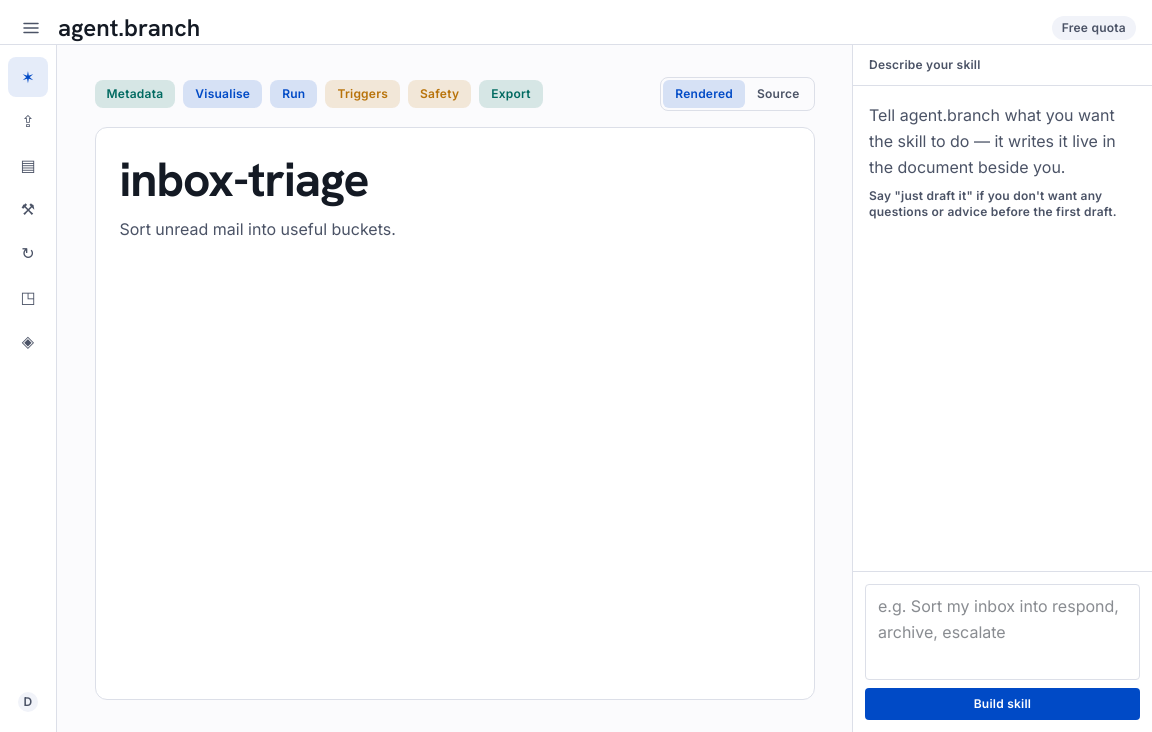
Scenario: AppShell capability chips › opens the Equipment decision guide by keyboard, returns, and submits a grounded question
Click the button named "Equipment" at coordinates (28, 209), box [8,189,48,229]
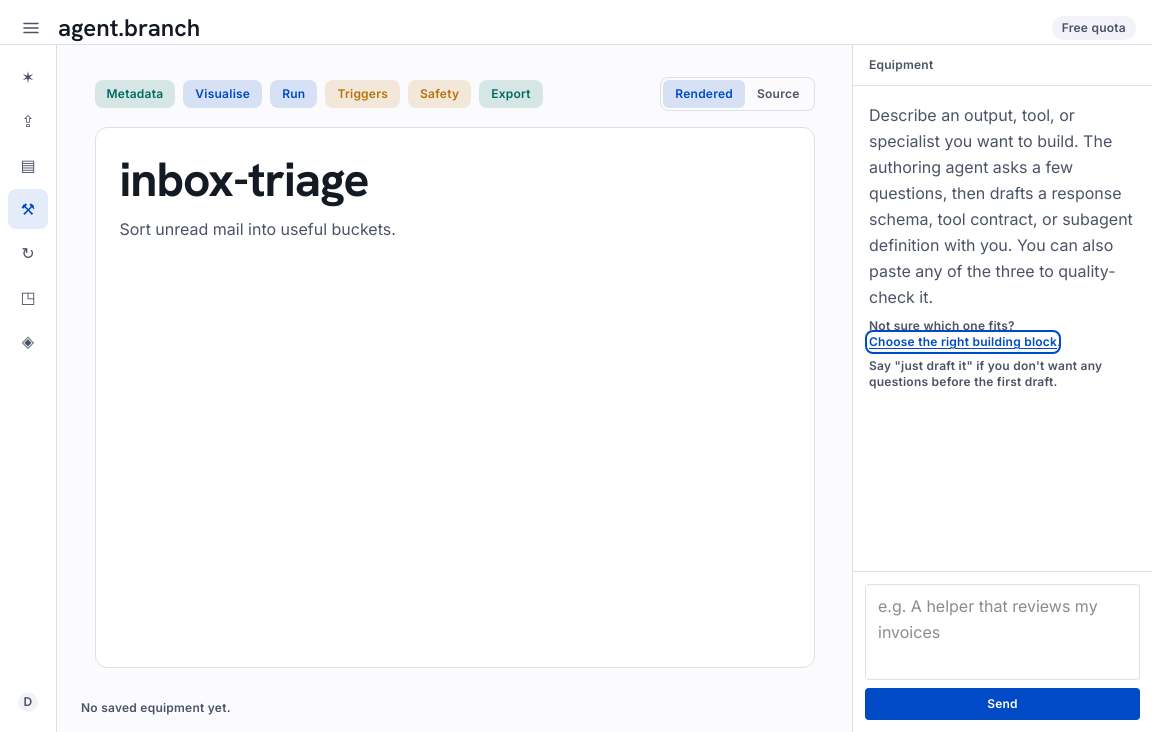
Press Enter
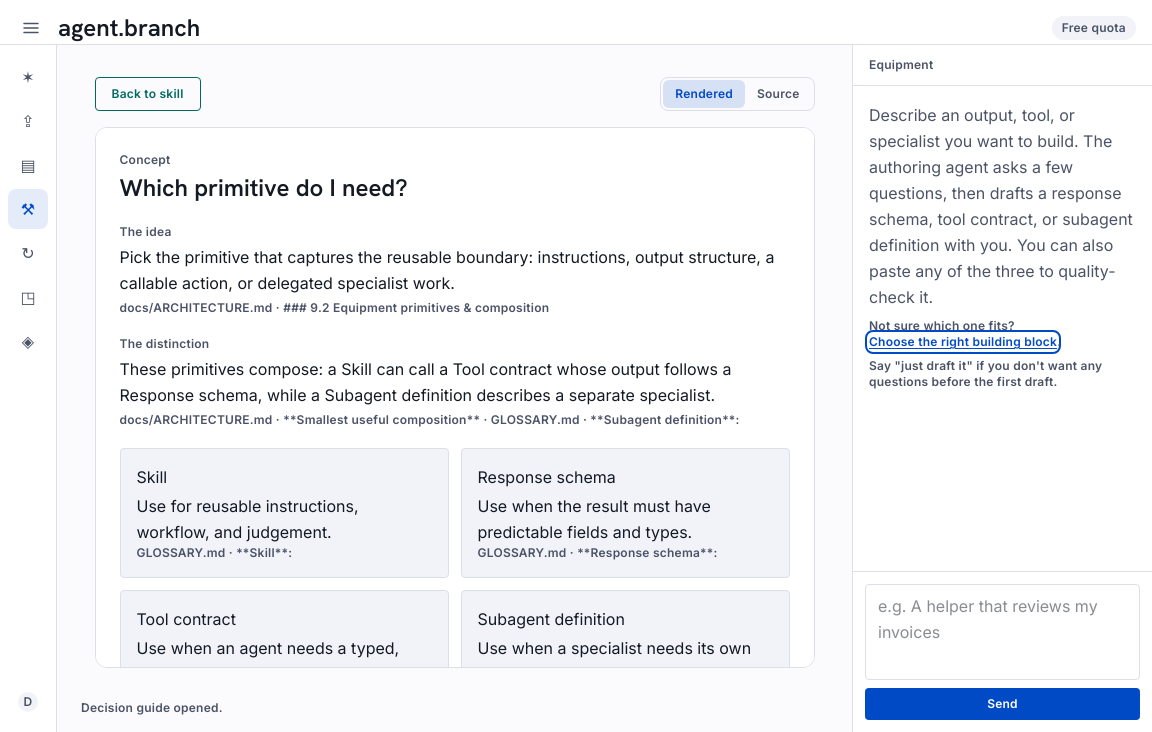
expect the heading "Which primitive do I need?" is shown: met, box [120,172,408,203]
expect the element "Which primitive do I need?" is shown: met, box [120,152,790,668]
expect the button "Back to skill" is enabled: met
Click the button "Back to skill" at coordinates (148, 94), box [94,77,201,111]
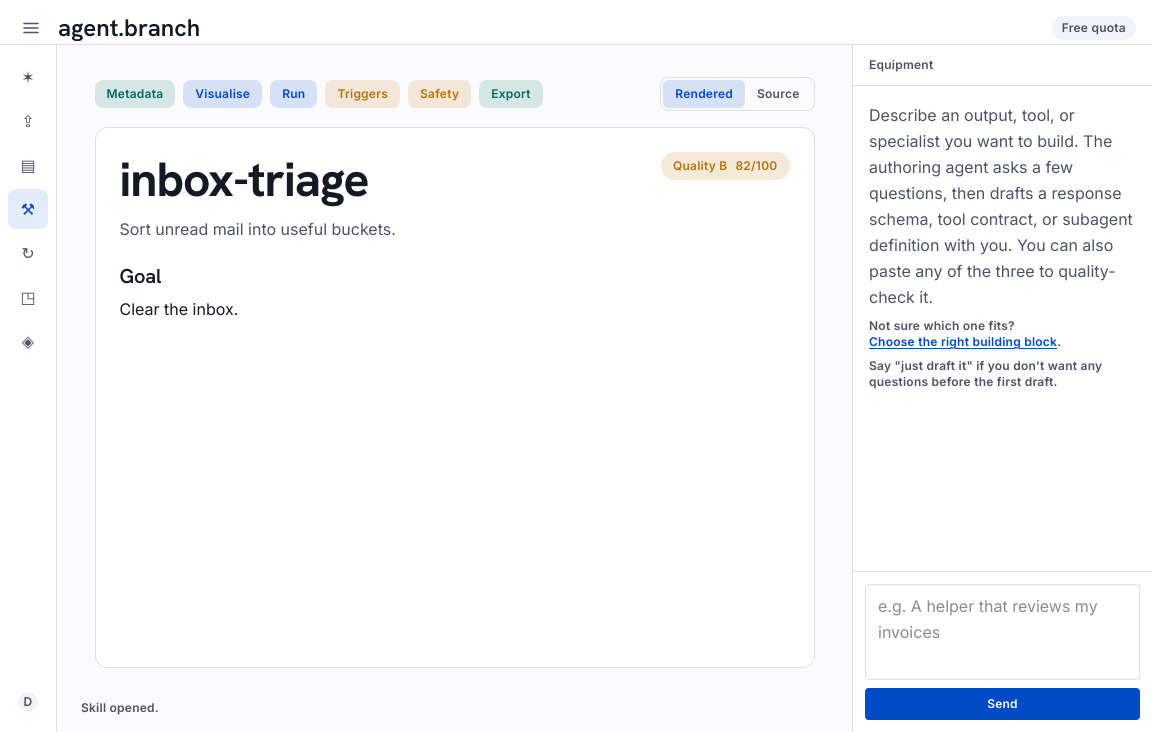
expect the heading "inbox-triage" is shown: met, box [120,152,369,208]
Click the button "Choose the right building block" at coordinates (963, 342), box [869,334,1057,350]
(page scrolled)
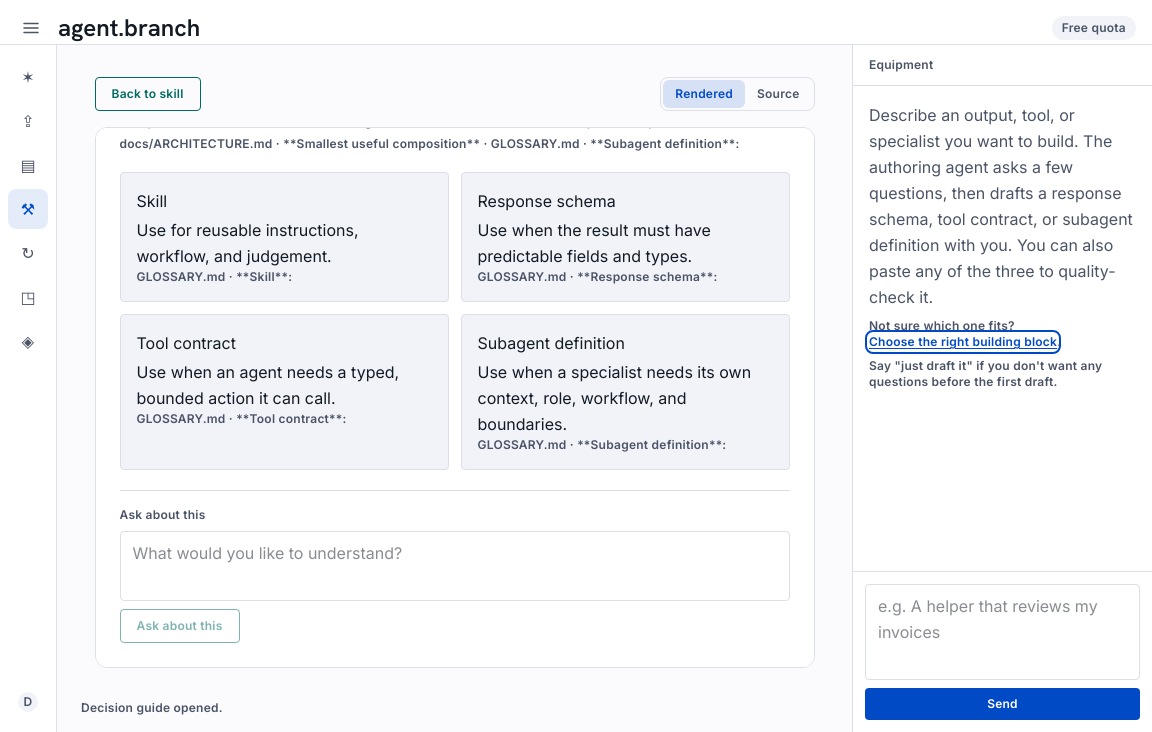
Type "Why would I use a subagent definition for delegated work?" into the text box labelled "Ask about this" at coordinates (454, 566), box [120,531,790,601]
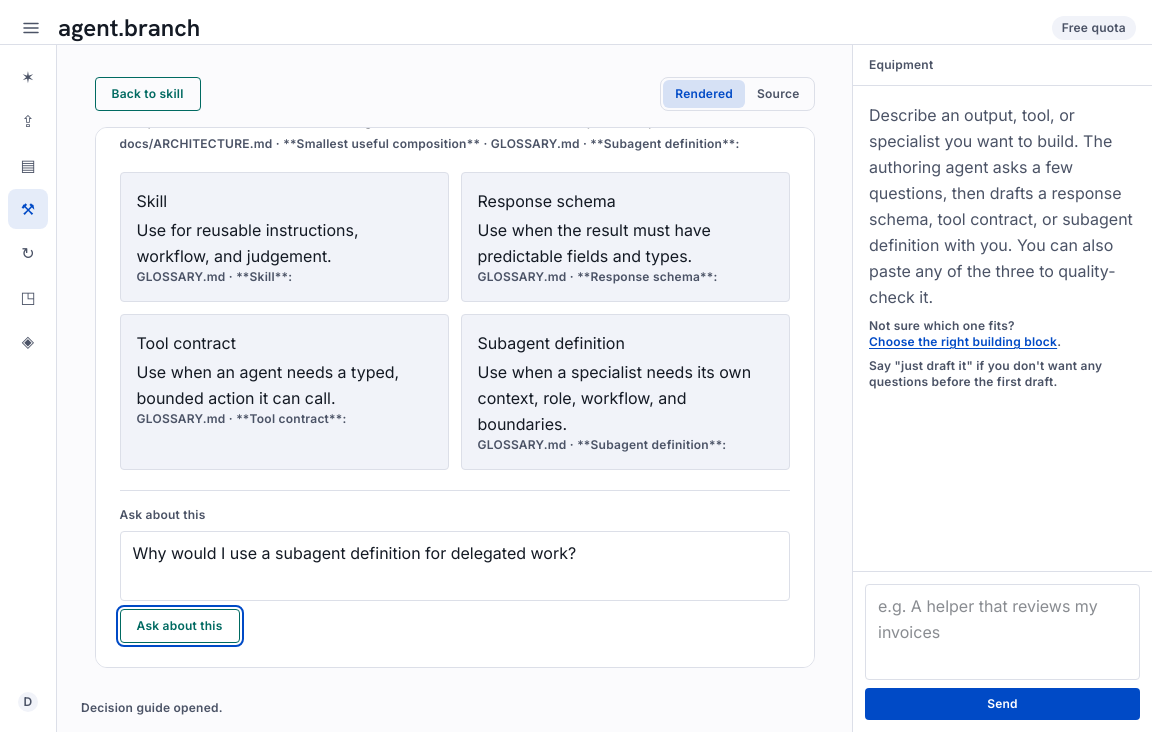
Press Enter
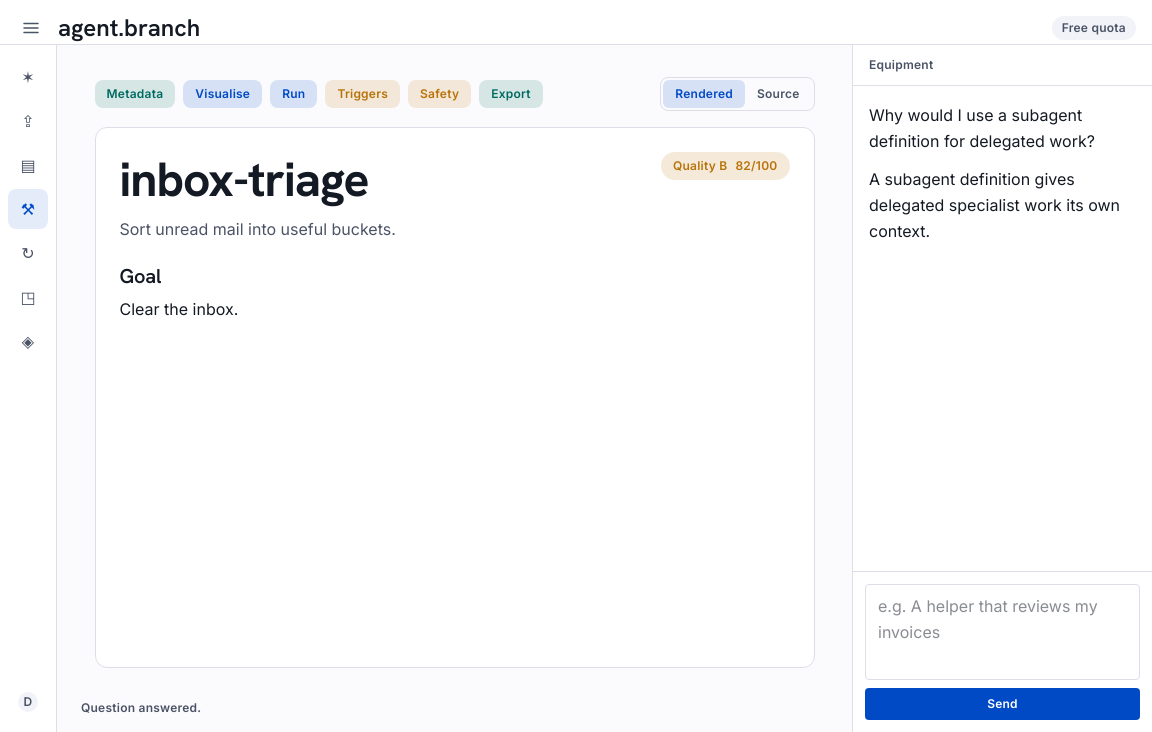
expect the text "gives delegated specialist work its own context" is shown: met, box [869,169,1120,241]
expect the message reads "Question answered.": met, box [81,700,201,715]
